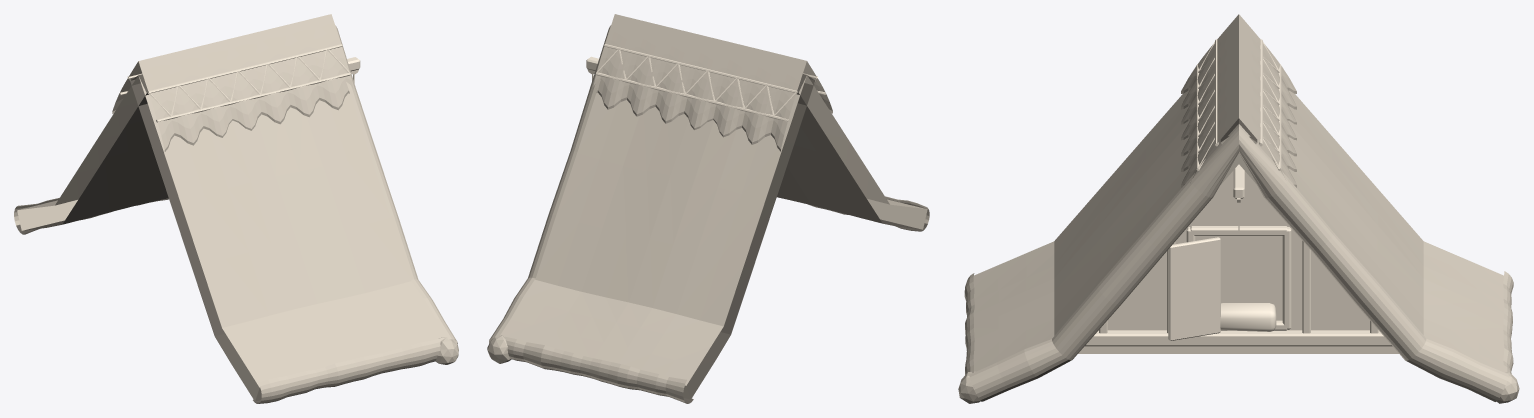
File: SM_VK_RoofThatch_Gable_Planks.fbx
3 views of the same model, side by side, from view 1: azimuth 30°, elevation 25°; view 2: azimuth 150°, elevation 25°; view 3: azimuth 270°, elevation 25° (orthographic). The views are drawn at different scales.
Parts seen in each view (by area): view 1: SM_VK_RoofThatch_Gable_Planks.001; view 2: SM_VK_RoofThatch_Gable_Planks.001; view 3: SM_VK_RoofThatch_Gable_Planks.001.
Boxes of the visible parts, x1=… form: SM_VK_RoofThatch_Gable_Planks.001: x1=14, y1=14, x2=458, y2=403; SM_VK_RoofThatch_Gable_Planks.001: x1=487, y1=14, x2=929, y2=403; SM_VK_RoofThatch_Gable_Planks.001: x1=958, y1=14, x2=1519, y2=403.
Size of the model in its own units: 4.58 by 5.16 by 9.11.
